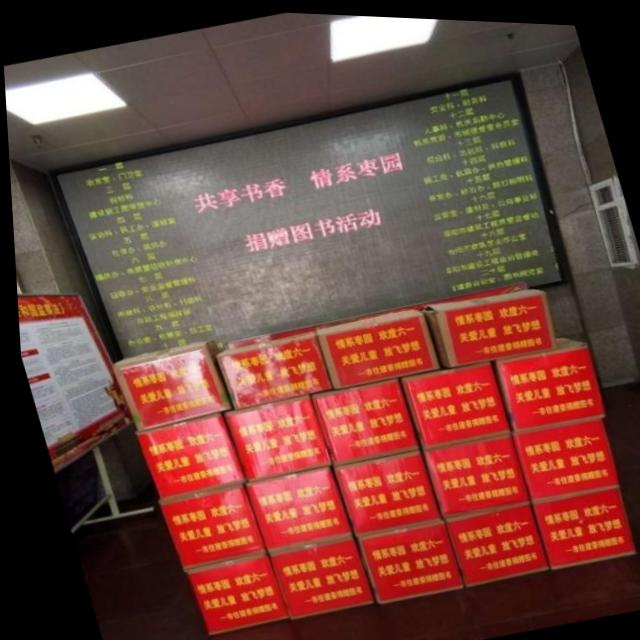box: (107, 337, 227, 430), (416, 284, 553, 363), (486, 332, 601, 426), (311, 305, 436, 386), (394, 356, 506, 446), (305, 373, 415, 462), (217, 391, 327, 480), (325, 444, 435, 533), (131, 409, 241, 497), (345, 515, 457, 600), (238, 462, 346, 550), (152, 479, 259, 567), (435, 496, 543, 583), (211, 328, 328, 408), (416, 428, 524, 514), (505, 411, 614, 496), (523, 480, 631, 565), (260, 532, 367, 616), (176, 549, 282, 633)
